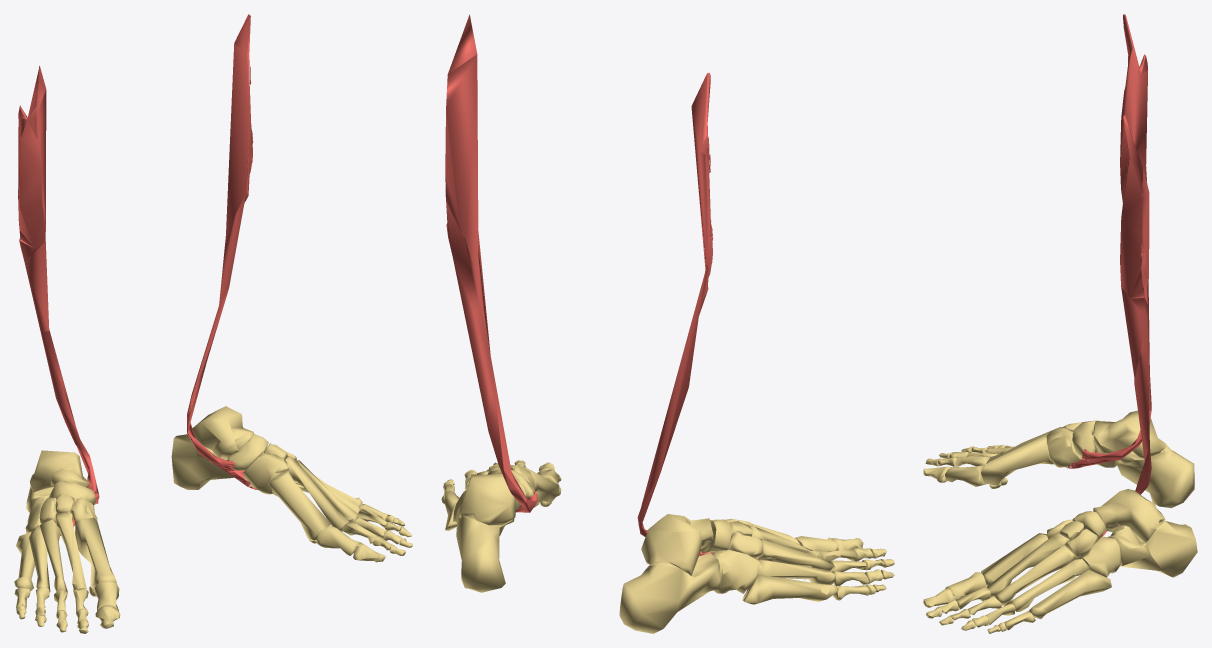
File: ankle-foot-GWSO4XOB.glb
3 renders of one model, left to right at view 1: azimuth 30°, elevation 25°; view 2: azimuth 150°, elevation 25°; view 3: azimuth 270°, elevation 25°, orthographic. The views are drawn at different scales.
Parts seen in each view (by area): view 1: ankle-foot:tibialis-posterior:isa:FJ1440, ankle-foot:tibialis-posterior:isa:FJ1440M, ankle-foot:talus:isa:FJ3280, ankle-foot:calcaneus:isa:FJ3256, ankle-foot:first-metatarsal-bone:isa:FJ3241, ankle-foot:talus:isa:FJ3385, ankle-foot:first-metatarsal-bone:isa:FJ3351, ankle-foot:medial-cuneiform-bone:isa:FJ3271, ankle-foot:second-metatarsal:isa:FJ3244, ankle-foot:second-metatarsal:isa:FJ3353, ankle-foot:third-metatarsal-bone:isa:FJ3355, ankle-foot:fourth-metatarsal-bone:isa:FJ3357 (+6 smaller); view 2: ankle-foot:tibialis-posterior:isa:FJ1440M, ankle-foot:tibialis-posterior:isa:FJ1440, ankle-foot:calcaneus:isa:FJ3360, ankle-foot:calcaneus:isa:FJ3256, ankle-foot:talus:isa:FJ3385, ankle-foot:talus:isa:FJ3280, ankle-foot:fifth-metatarsal-bone:isa:FJ3359, ankle-foot:cuboid-bone:isa:FJ3364, ankle-foot:fourth-metatarsal-bone:isa:FJ3357, ankle-foot:third-metatarsal-bone:isa:FJ3355, ankle-foot:navicular-bone-of-foot:isa:FJ3308, ankle-foot:lateral-cuneiform-bone:isa:FJ3373; view 3: ankle-foot:tibialis-posterior:isa:FJ1440M, ankle-foot:tibialis-posterior:isa:FJ1440, ankle-foot:calcaneus:isa:FJ3256, ankle-foot:calcaneus:isa:FJ3360, ankle-foot:talus:isa:FJ3280, ankle-foot:talus:isa:FJ3385, ankle-foot:first-metatarsal-bone:isa:FJ3351, ankle-foot:fifth-metatarsal-bone:isa:FJ3253, ankle-foot:third-metatarsal-bone:isa:FJ3247, ankle-foot:second-metatarsal:isa:FJ3244, ankle-foot:fourth-metatarsal-bone:isa:FJ3250, ankle-foot:cuboid-bone:isa:FJ3258 (+7 smaller).
Part boxes in pixels (box(x1,y1,x2,y2)): ankle-foot:tibialis-posterior:isa:FJ1440: box(18, 65, 99, 535); ankle-foot:tibialis-posterior:isa:FJ1440M: box(187, 14, 257, 489); ankle-foot:talus:isa:FJ3280: box(190, 406, 253, 459); ankle-foot:calcaneus:isa:FJ3256: box(171, 434, 233, 489); ankle-foot:first-metatarsal-bone:isa:FJ3241: box(269, 470, 330, 540); ankle-foot:talus:isa:FJ3385: box(30, 450, 89, 492); ankle-foot:first-metatarsal-bone:isa:FJ3351: box(75, 517, 116, 589); ankle-foot:medial-cuneiform-bone:isa:FJ3271: box(243, 453, 289, 494); ankle-foot:second-metatarsal:isa:FJ3244: box(285, 455, 349, 531); ankle-foot:second-metatarsal:isa:FJ3353: box(55, 511, 86, 589); ankle-foot:third-metatarsal-bone:isa:FJ3355: box(40, 519, 67, 592); ankle-foot:fourth-metatarsal-bone:isa:FJ3357: box(29, 525, 50, 592); ankle-foot:tibialis-posterior:isa:FJ1440M: box(445, 14, 537, 512); ankle-foot:tibialis-posterior:isa:FJ1440: box(637, 72, 713, 556); ankle-foot:calcaneus:isa:FJ3360: box(619, 553, 720, 633); ankle-foot:calcaneus:isa:FJ3256: box(456, 506, 514, 592); ankle-foot:talus:isa:FJ3385: box(641, 514, 713, 575); ankle-foot:talus:isa:FJ3280: box(459, 469, 526, 525); ankle-foot:fifth-metatarsal-bone:isa:FJ3359: box(742, 574, 837, 604); ankle-foot:cuboid-bone:isa:FJ3364: box(712, 550, 758, 593); ankle-foot:fourth-metatarsal-bone:isa:FJ3357: box(756, 559, 835, 584); ankle-foot:third-metatarsal-bone:isa:FJ3355: box(756, 539, 833, 570); ankle-foot:navicular-bone-of-foot:isa:FJ3308: box(701, 519, 732, 553); ankle-foot:lateral-cuneiform-bone:isa:FJ3373: box(727, 532, 763, 558); ankle-foot:tibialis-posterior:isa:FJ1440M: box(1100, 115, 1151, 537); ankle-foot:tibialis-posterior:isa:FJ1440: box(1065, 14, 1151, 468); ankle-foot:calcaneus:isa:FJ3256: box(1107, 520, 1197, 577); ankle-foot:calcaneus:isa:FJ3360: box(1115, 441, 1194, 508); ankle-foot:talus:isa:FJ3280: box(1093, 489, 1165, 542); ankle-foot:talus:isa:FJ3385: box(1093, 410, 1165, 458); ankle-foot:first-metatarsal-bone:isa:FJ3351: box(981, 436, 1053, 485); ankle-foot:fifth-metatarsal-bone:isa:FJ3253: box(1028, 569, 1111, 618); ankle-foot:third-metatarsal-bone:isa:FJ3247: box(995, 545, 1075, 605); ankle-foot:second-metatarsal:isa:FJ3244: box(987, 533, 1069, 597); ankle-foot:fourth-metatarsal-bone:isa:FJ3250: box(1010, 559, 1089, 611); ankle-foot:cuboid-bone:isa:FJ3258: box(1080, 536, 1121, 577).
Bounding box in the file's own units: 0.3387 × 0.4061 × 0.2116.
